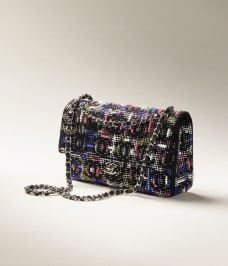channel: (29, 80, 222, 210), (63, 104, 83, 195), (98, 156, 127, 175)
